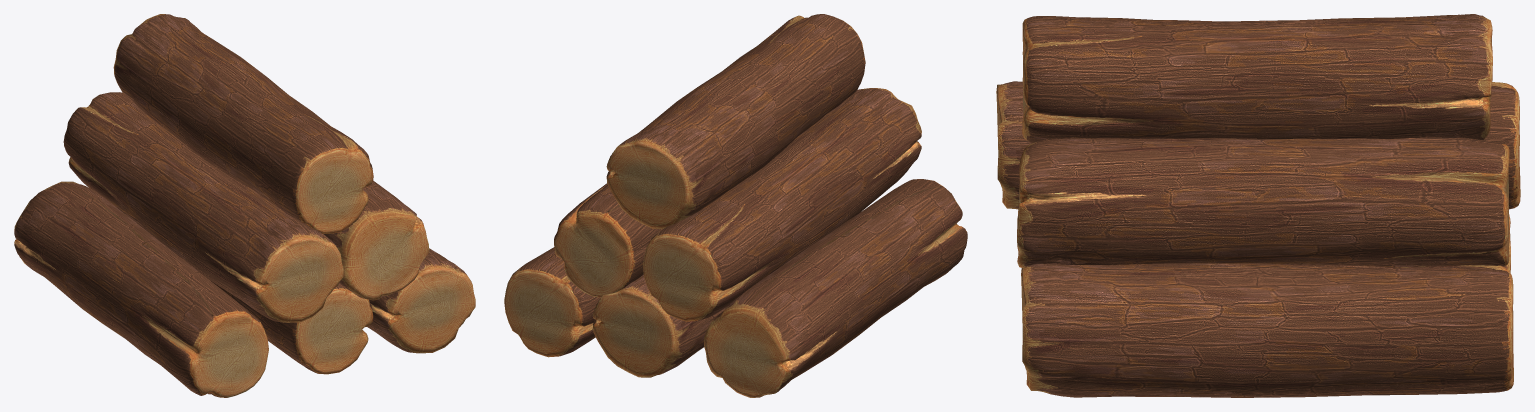
The model's file is logs.gltf.
The picture shows the model from 3 angles, left to right: view 1: azimuth 30°, elevation 25°; view 2: azimuth 150°, elevation 25°; view 3: azimuth 270°, elevation 25°; orthographic projection. The views are drawn at different scales.
Parts seen in each view (by area): view 1: Stack_Of_Logs.1; view 2: Stack_Of_Logs.1; view 3: Stack_Of_Logs.1.
Part boxes in pixels (x1,y1,x2,y2): Stack_Of_Logs.1: (14, 14, 475, 397); Stack_Of_Logs.1: (504, 14, 967, 397); Stack_Of_Logs.1: (996, 14, 1520, 397).
Bounding box in the file's own units: 0.0974 × 0.0779 × 0.1179.
Materials: 1 (1 with a texture image).
